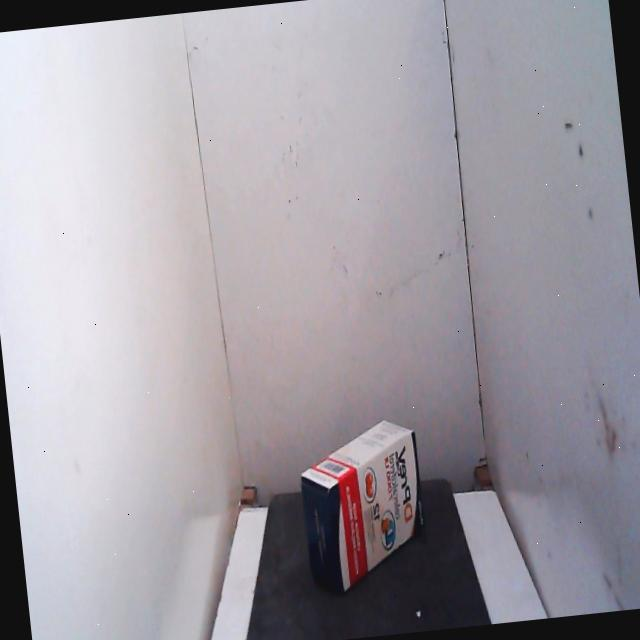paper: (284, 396, 443, 616)
